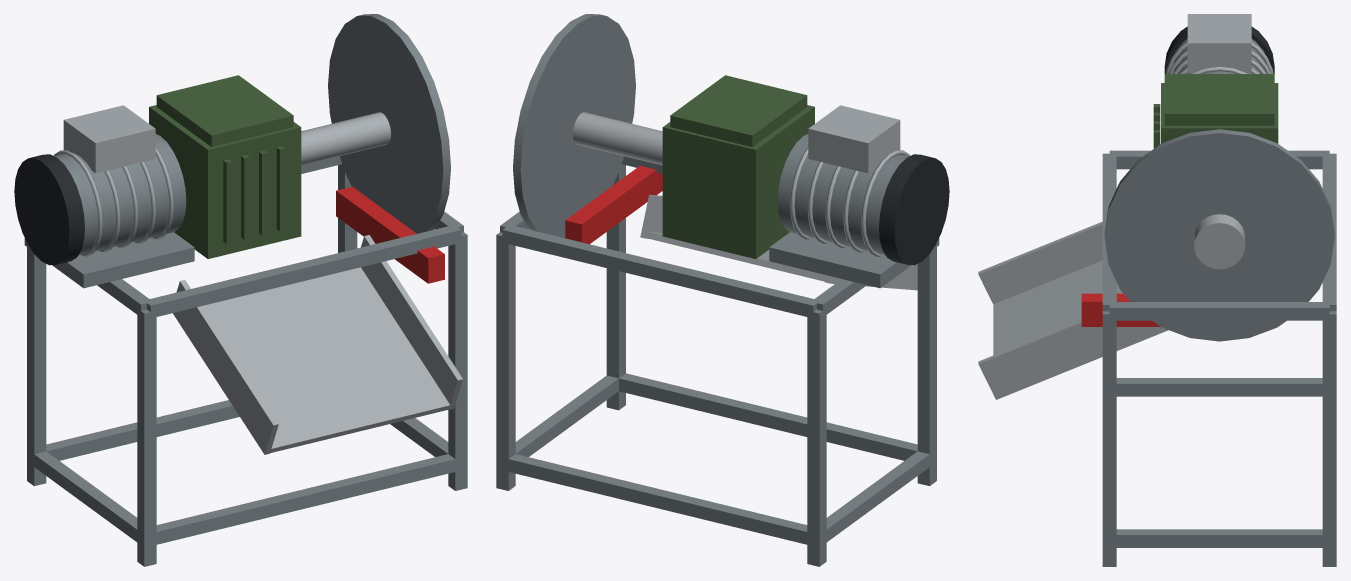
File: pilot-kupas-batok-v1.glb
The picture shows the model from 3 angles, left to right: view 1: azimuth 30°, elevation 25°; view 2: azimuth 150°, elevation 25°; view 3: azimuth 270°, elevation 25°; orthographic projection.
Parts seen in each view (by area): view 1: chute-floor, disc-reference, cross-member (×3), leg (×4), gearbox-body, chute-side (×2), motor-body, fan-cover, gearbox-top, terminal-box, side-member (×3), mounting-foot (+4 smaller); view 2: disc-reference, cross-member (×3), leg (×4), gearbox-body, motor-body, fan-cover, gearbox-top, side-member (×3), terminal-box, mounting-foot, red-guide, external-shaft (+3 smaller); view 3: disc-reference, side-member (×4), chute-side (×2), leg (×2), gearbox-top, chute-floor, terminal-box, cross-member (×2), disc-hub, gearbox-body, red-guide, fan-cover.
Boxes of the visible parts, bbox=[...] form: chute-floor: bbox=[202, 267, 451, 453]; disc-reference: bbox=[328, 14, 450, 233]; cross-member (×3): bbox=[46, 224, 461, 544]; leg (×4): bbox=[27, 164, 467, 566]; gearbox-body: bbox=[149, 105, 301, 258]; chute-side (×2): bbox=[173, 235, 462, 454]; motor-body: bbox=[54, 134, 186, 255]; fan-cover: bbox=[14, 154, 84, 265]; gearbox-top: bbox=[156, 75, 293, 146]; terminal-box: bbox=[63, 105, 155, 173]; side-member (×3): bbox=[31, 279, 448, 544]; mounting-foot: bbox=[24, 232, 194, 288]; disc-reference: bbox=[513, 14, 635, 238]; cross-member (×3): bbox=[502, 225, 917, 544]; leg (×4): bbox=[496, 164, 936, 566]; gearbox-body: bbox=[662, 105, 814, 258]; motor-body: bbox=[777, 134, 909, 255]; fan-cover: bbox=[879, 154, 949, 265]; gearbox-top: bbox=[670, 75, 807, 146]; side-member (×3): bbox=[515, 279, 929, 541]; terminal-box: bbox=[808, 105, 900, 173]; mounting-foot: bbox=[769, 232, 939, 288]; red-guide: bbox=[565, 166, 662, 244]; external-shaft: bbox=[572, 112, 662, 165]; disc-reference: bbox=[1104, 129, 1334, 341]; side-member (×4): bbox=[1109, 150, 1329, 547]; chute-side (×2): bbox=[978, 221, 1168, 399]; leg (×2): bbox=[1102, 311, 1336, 566]; gearbox-top: bbox=[1164, 74, 1274, 125]; chute-floor: bbox=[993, 260, 1122, 355]; terminal-box: bbox=[1187, 14, 1251, 73]; cross-member (×2): bbox=[1102, 153, 1336, 311]; disc-hub: bbox=[1194, 214, 1245, 269]; gearbox-body: bbox=[1161, 83, 1278, 143]; red-guide: bbox=[1081, 293, 1160, 326]; fan-cover: bbox=[1164, 26, 1274, 73].
Size of the model in its own units: 1.67 by 1.84 by 1.4.
